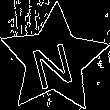N_N: (29, 30, 79, 89)
